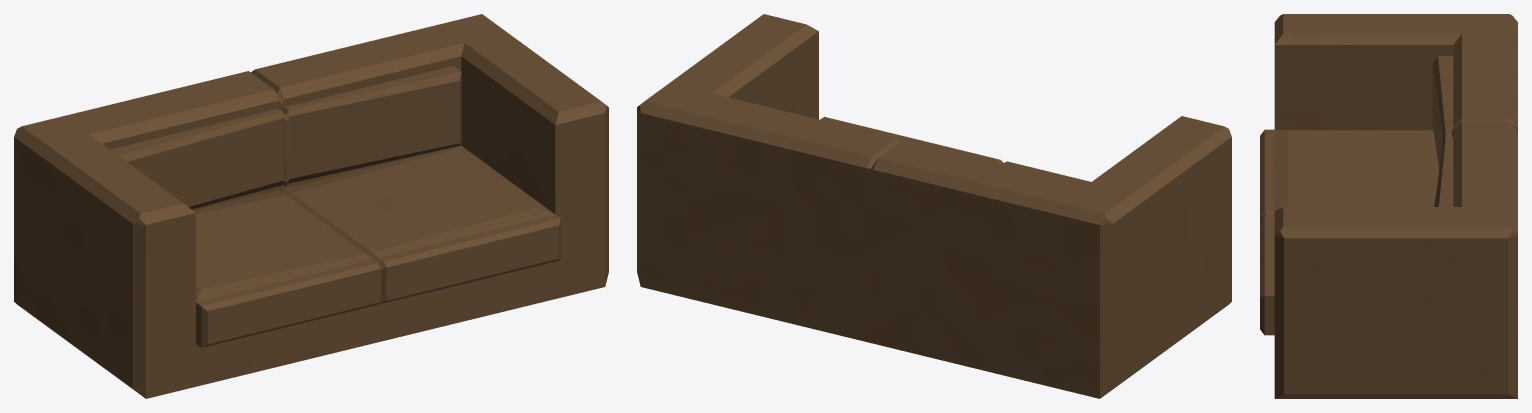
Rendered from Sofa_01_02.fbx.
3 views of the same model, side by side, from view 1: azimuth 30°, elevation 25°; view 2: azimuth 150°, elevation 25°; view 3: azimuth 270°, elevation 25° (orthographic). The views are drawn at different scales.
Parts seen in each view (by area): view 1: Sofa_01_02; view 2: Sofa_01_02; view 3: Sofa_01_02.
Part boxes in pixels (x1,y1,x2,y2): Sofa_01_02: (14, 14, 608, 398); Sofa_01_02: (637, 14, 1231, 398); Sofa_01_02: (1260, 14, 1517, 398).
Bounding box in the file's own units: 2.5 × 0.913 × 1.24.
